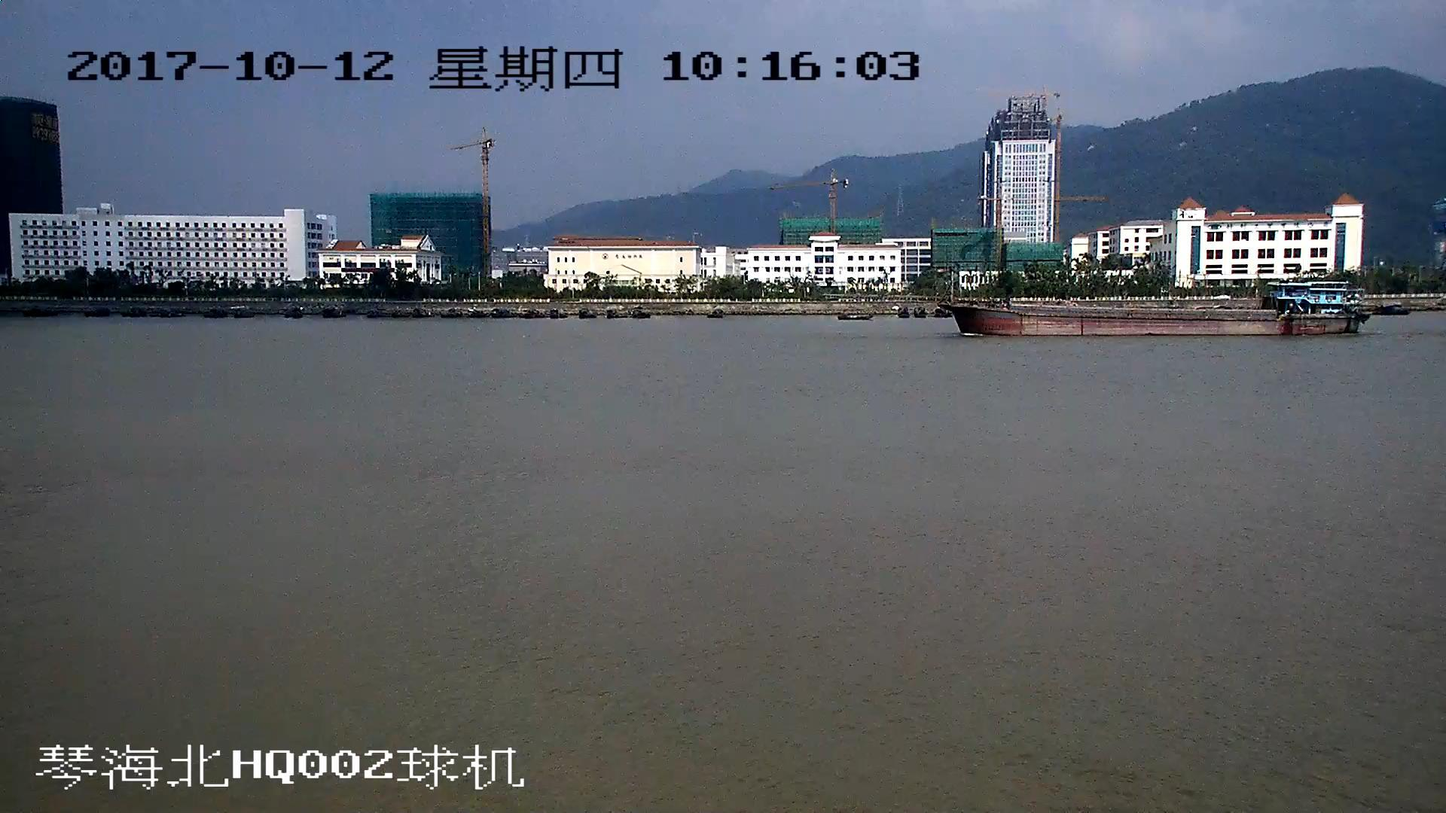bulk cargo carrier: (946, 283, 1372, 338)
